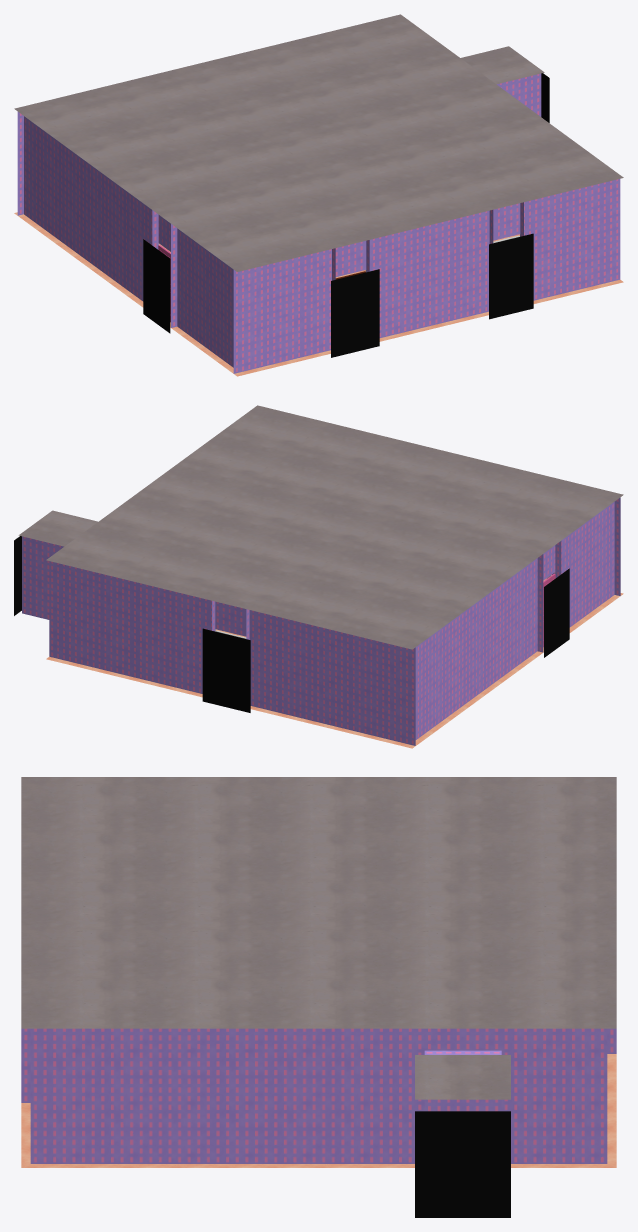
The model's file is rdwe_repeating_room.glb.
The picture shows the model from 3 angles, top to bottom: view 1: azimuth 30°, elevation 25°; view 2: azimuth 150°, elevation 25°; view 3: azimuth 270°, elevation 25°; orthographic projection. The views are drawn at different scales.
Visible parts, largest first — view 1: Ceiling_Repeat.001, Wall_Doors.001, Void.001, Carpet_Peach.001; view 2: Ceiling_Repeat.001, Wall_Doors.001, Void.001, Carpet_Peach.001; view 3: Ceiling_Repeat.001, Wall_Doors.001, Void.001, Carpet_Peach.001.
Boxes of the visible parts, <box> form: Ceiling_Repeat.001: <box>14,14,623,271</box>; Wall_Doors.001: <box>17,73,620,373</box>; Void.001: <box>143,73,549,357</box>; Carpet_Peach.001: <box>14,212,623,376</box>; Ceiling_Repeat.001: <box>18,405,623,649</box>; Wall_Doors.001: <box>22,497,620,745</box>; Void.001: <box>14,536,569,712</box>; Carpet_Peach.001: <box>46,578,623,748</box>; Ceiling_Repeat.001: <box>21,777,616,1099</box>; Wall_Doors.001: <box>21,1028,616,1163</box>; Void.001: <box>415,1111,510,1217</box>; Carpet_Peach.001: <box>21,1054,616,1167</box>.
Size of the model in its own units: 14.9 by 3.25 by 12.7.
Materials: 17 (14 with a texture image).
